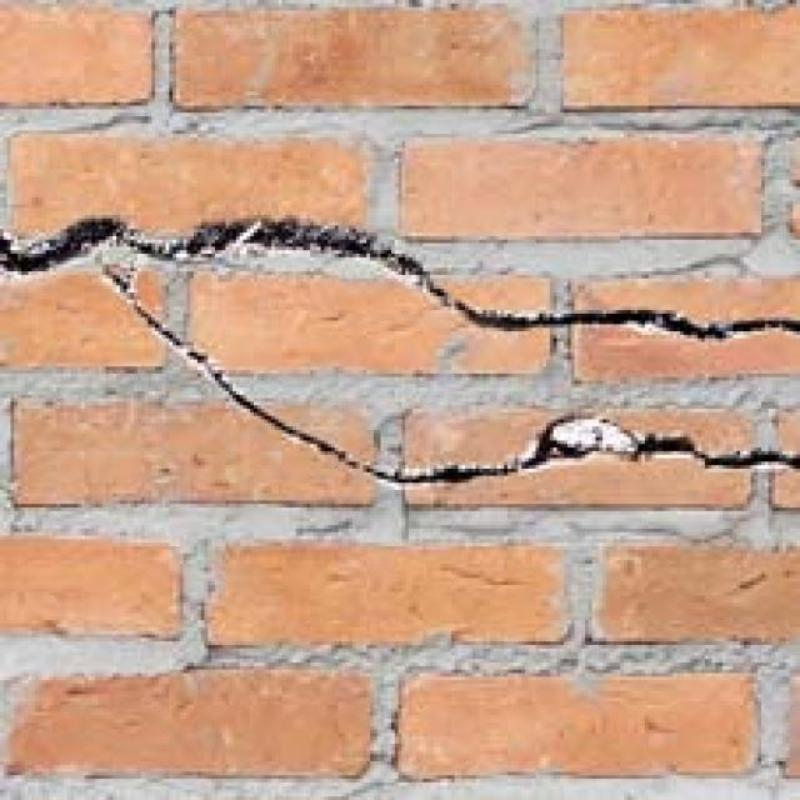pothole: (0, 217, 799, 337), (134, 302, 359, 466), (366, 414, 799, 484), (109, 273, 128, 295)
